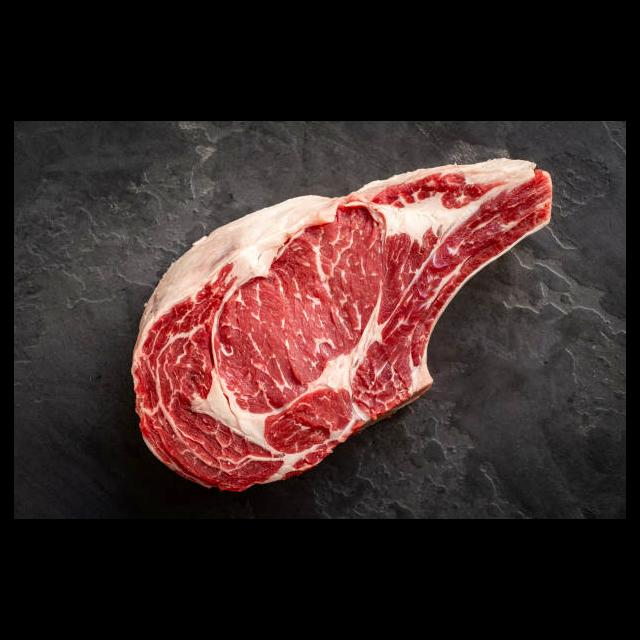beef: (129, 157, 554, 494)
